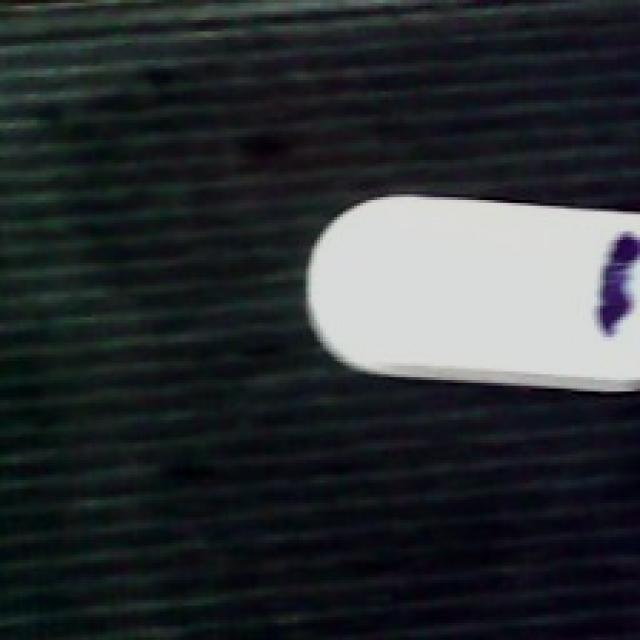defected: (303, 186, 640, 400)
